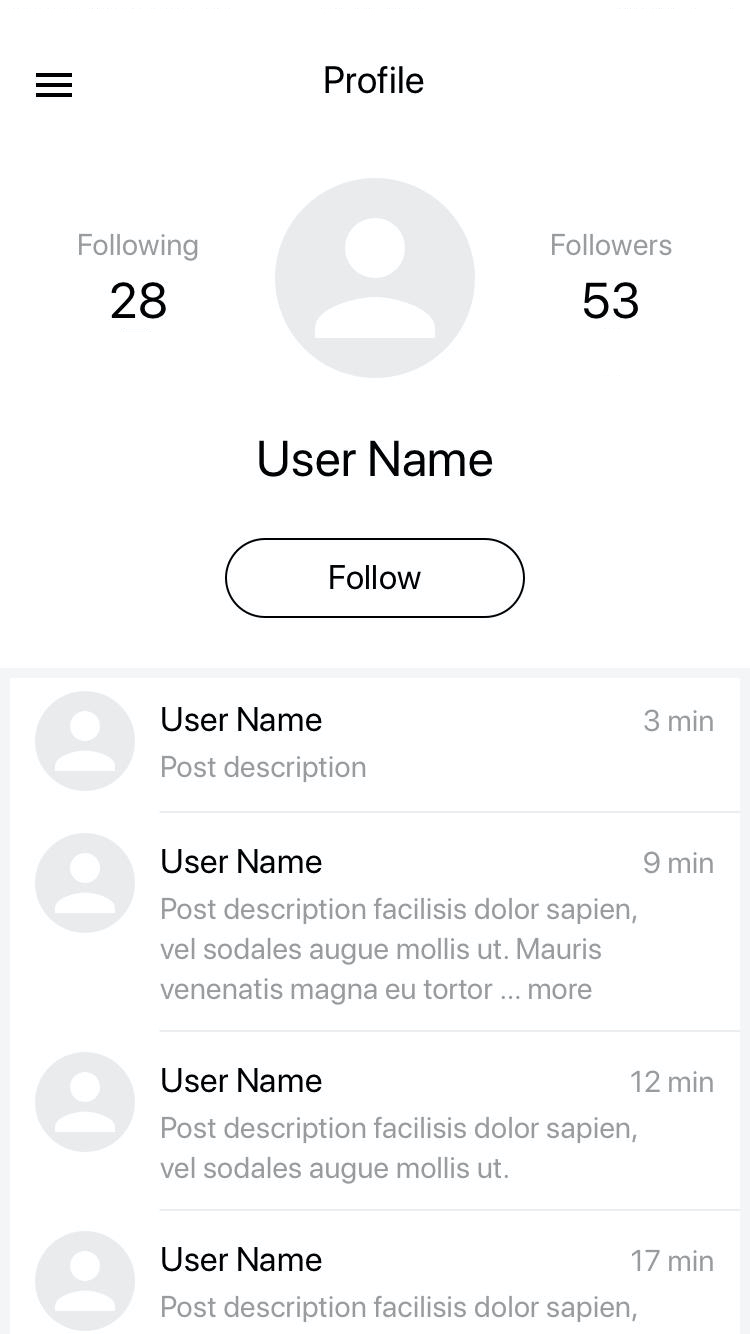Icon: (275, 177, 477, 380), (34, 689, 136, 792), (35, 832, 137, 934), (35, 1051, 137, 1153), (34, 1230, 136, 1332), (34, 70, 76, 101)
Text: (160, 897, 639, 1007), (159, 1115, 638, 1186), (162, 1294, 639, 1323), (258, 440, 494, 479), (161, 755, 367, 784), (161, 706, 323, 733), (162, 1067, 324, 1094), (162, 848, 323, 875), (161, 1246, 323, 1272), (323, 61, 425, 97), (79, 233, 199, 262), (551, 234, 672, 257), (630, 1067, 714, 1094), (582, 282, 639, 321), (112, 281, 168, 320), (631, 1247, 714, 1272), (642, 707, 718, 734), (642, 850, 714, 875)
TextButton: (225, 538, 527, 620)
